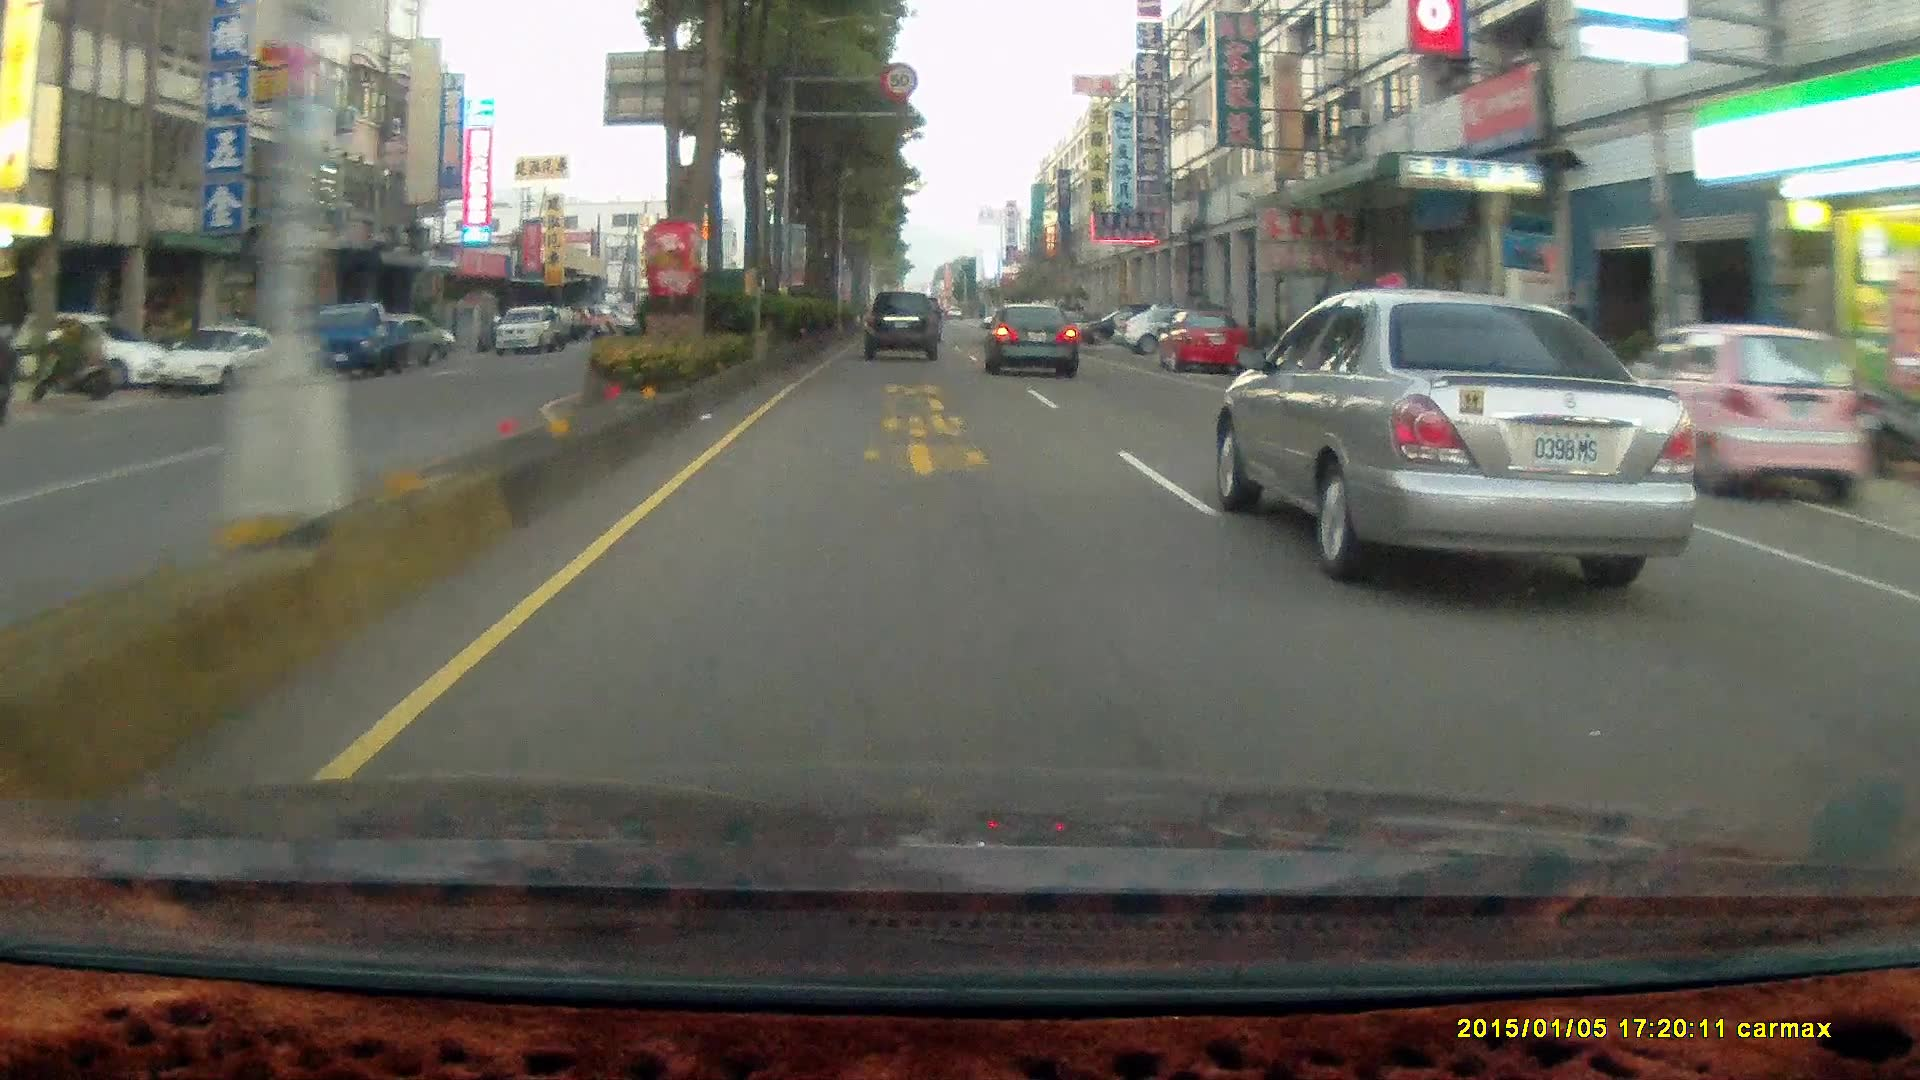vehicle: (1226, 286, 1716, 574), (1611, 320, 1875, 512), (1615, 320, 1851, 505), (1365, 297, 1559, 401), (17, 309, 167, 386), (152, 319, 287, 392), (309, 299, 427, 377), (152, 323, 284, 390), (309, 297, 410, 378), (986, 301, 1083, 378), (981, 301, 1077, 377), (1153, 305, 1246, 372), (1159, 307, 1247, 377), (865, 291, 943, 367), (1112, 294, 1224, 345), (860, 286, 938, 356), (353, 313, 448, 365), (495, 305, 558, 353), (1076, 307, 1155, 343)
